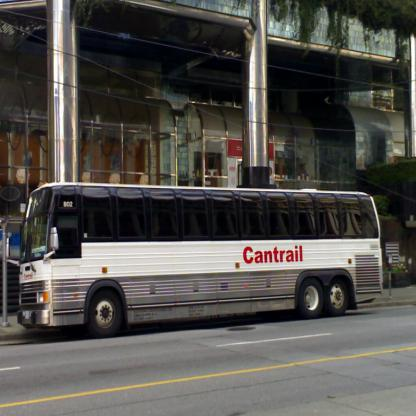Bus: (15, 181, 384, 335)
